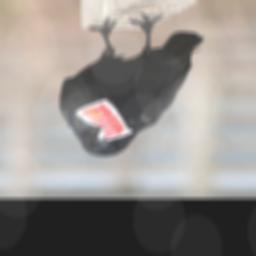Crow: (57, 11, 205, 157)
